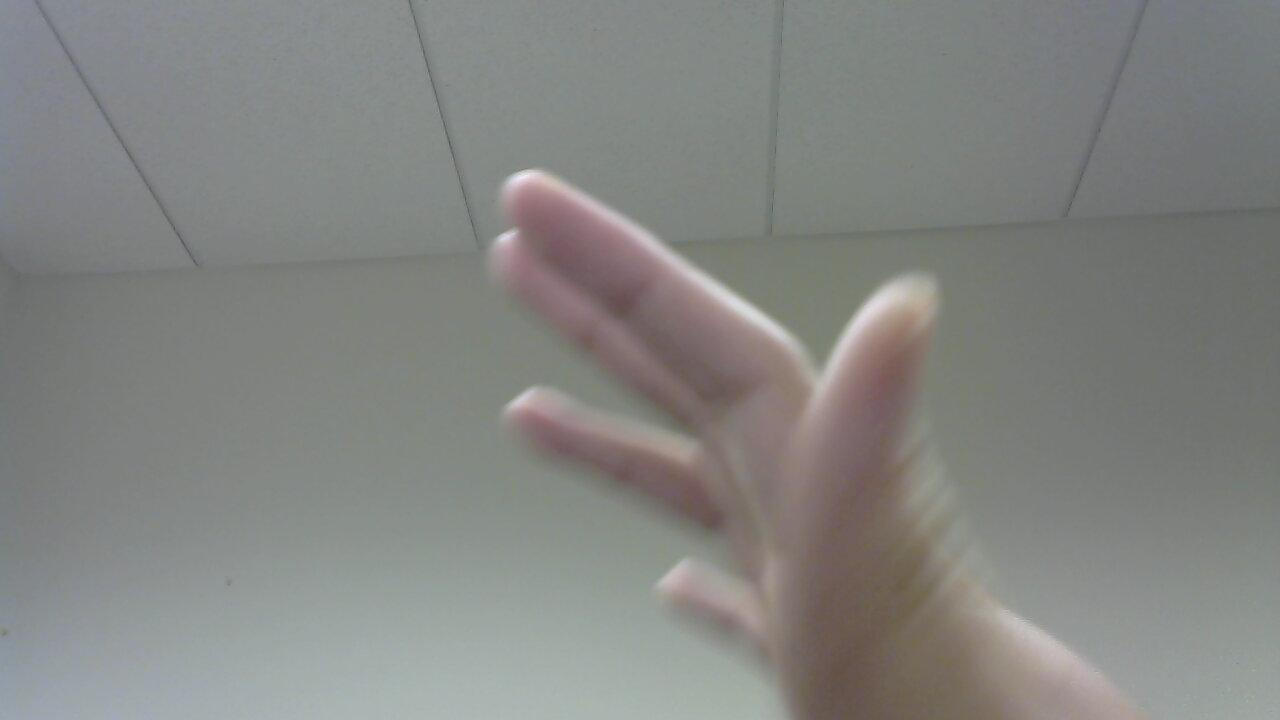hands: (479, 155, 1031, 720)
